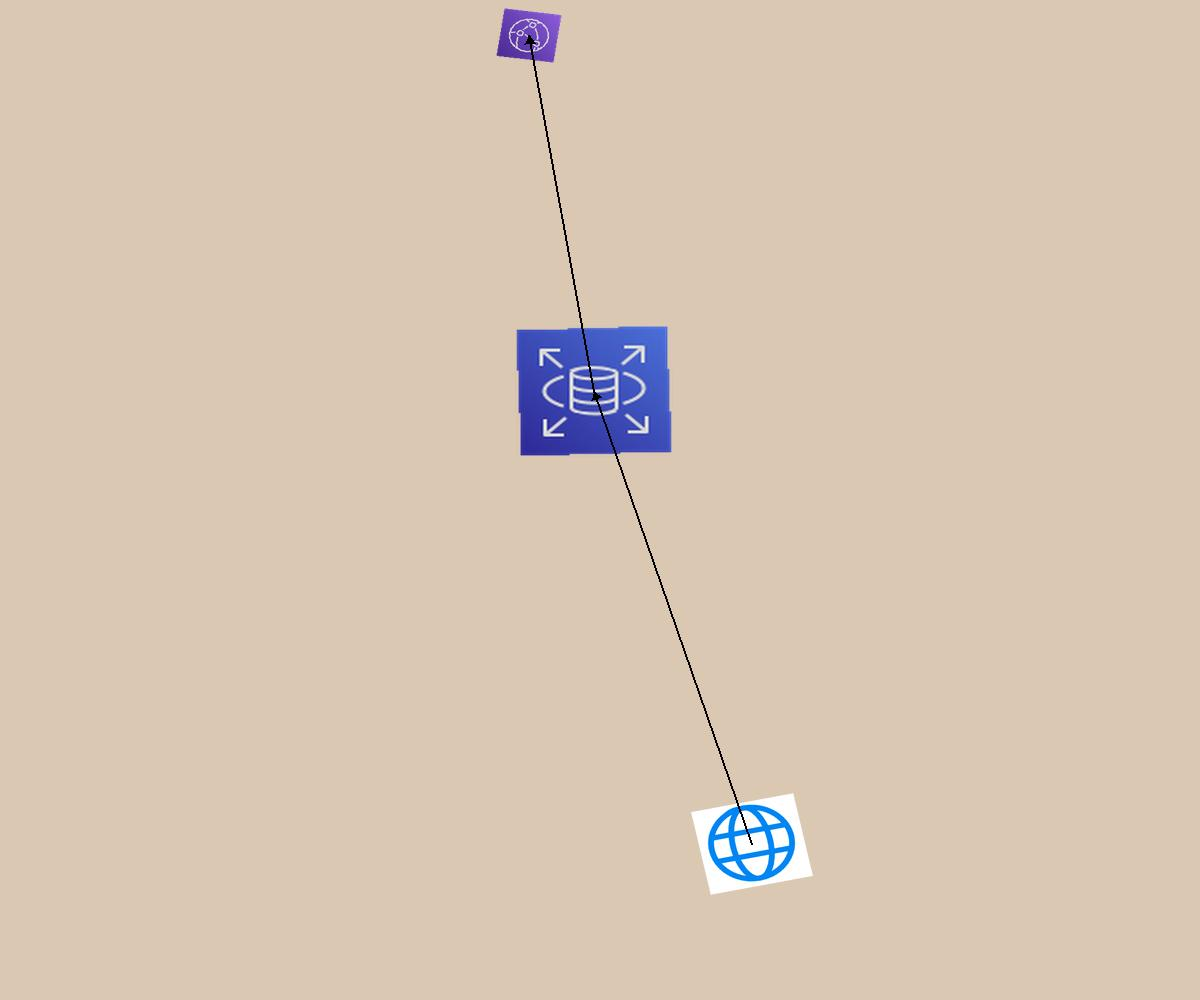AWS-CloudFront: (496, 8, 562, 63)
AWS-RDS: (515, 325, 673, 457)
Azure_http: (691, 793, 813, 895)
